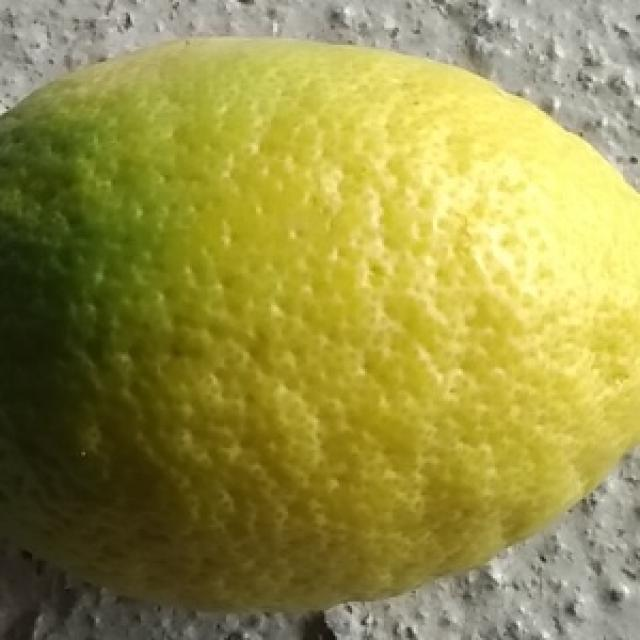Lemon: (0, 32, 640, 619)
